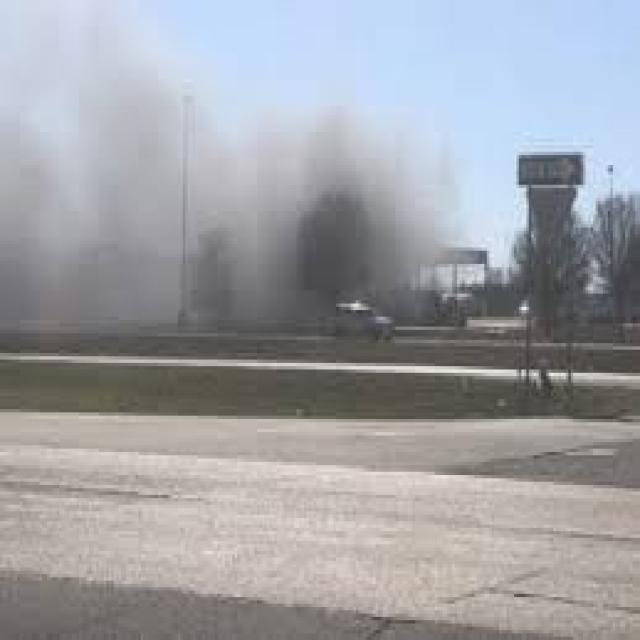Smoke: (0, 0, 462, 320)
